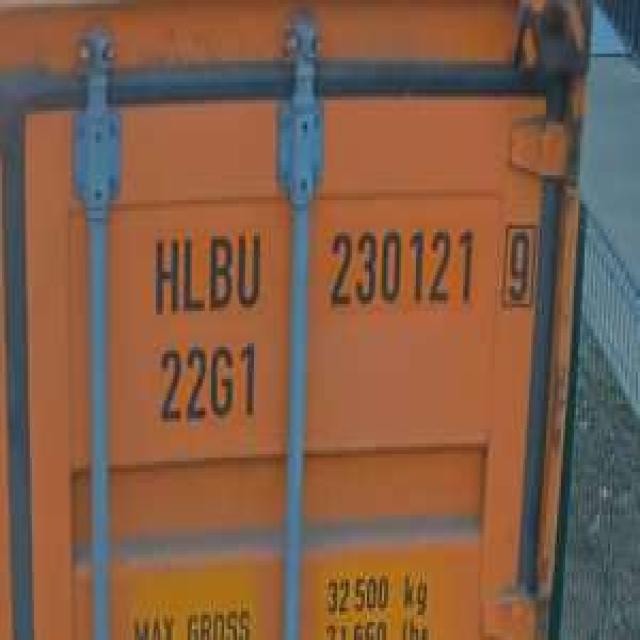dv: (500, 223, 537, 308)
owner: (150, 228, 268, 316)
serial: (326, 220, 478, 311)
size: (145, 336, 265, 429)
